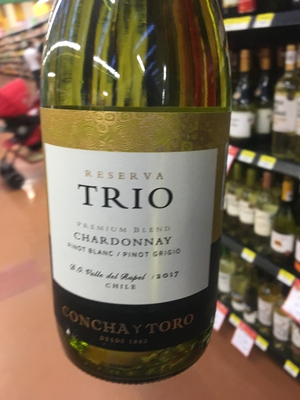trio chardonnay: (39, 2, 236, 382)
